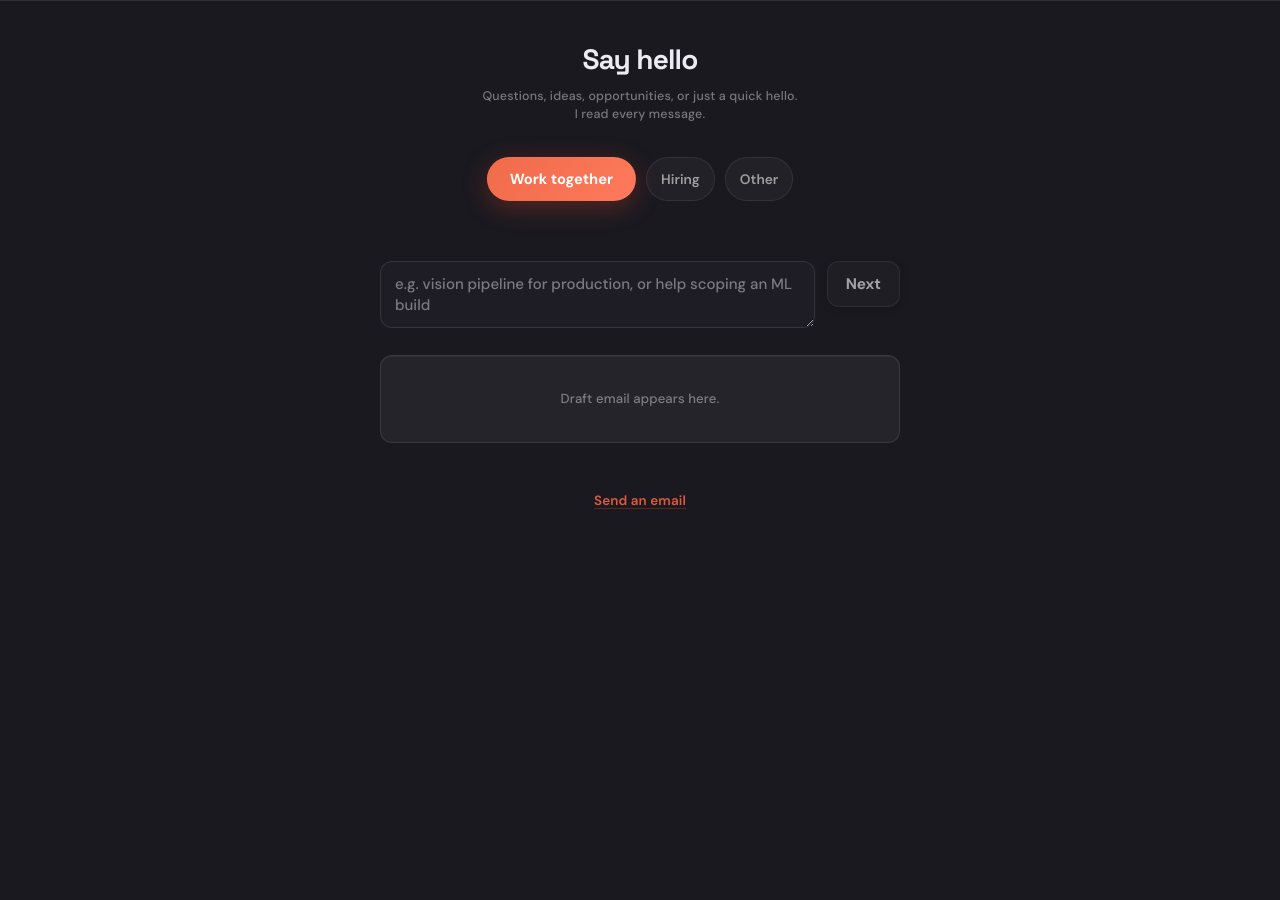
Contact › completes preview flow and validates send button by email format
Type "I’m working on a production AI workflow." into the text box titled "your message" at x=597, y=295, box [380,261,815,328]
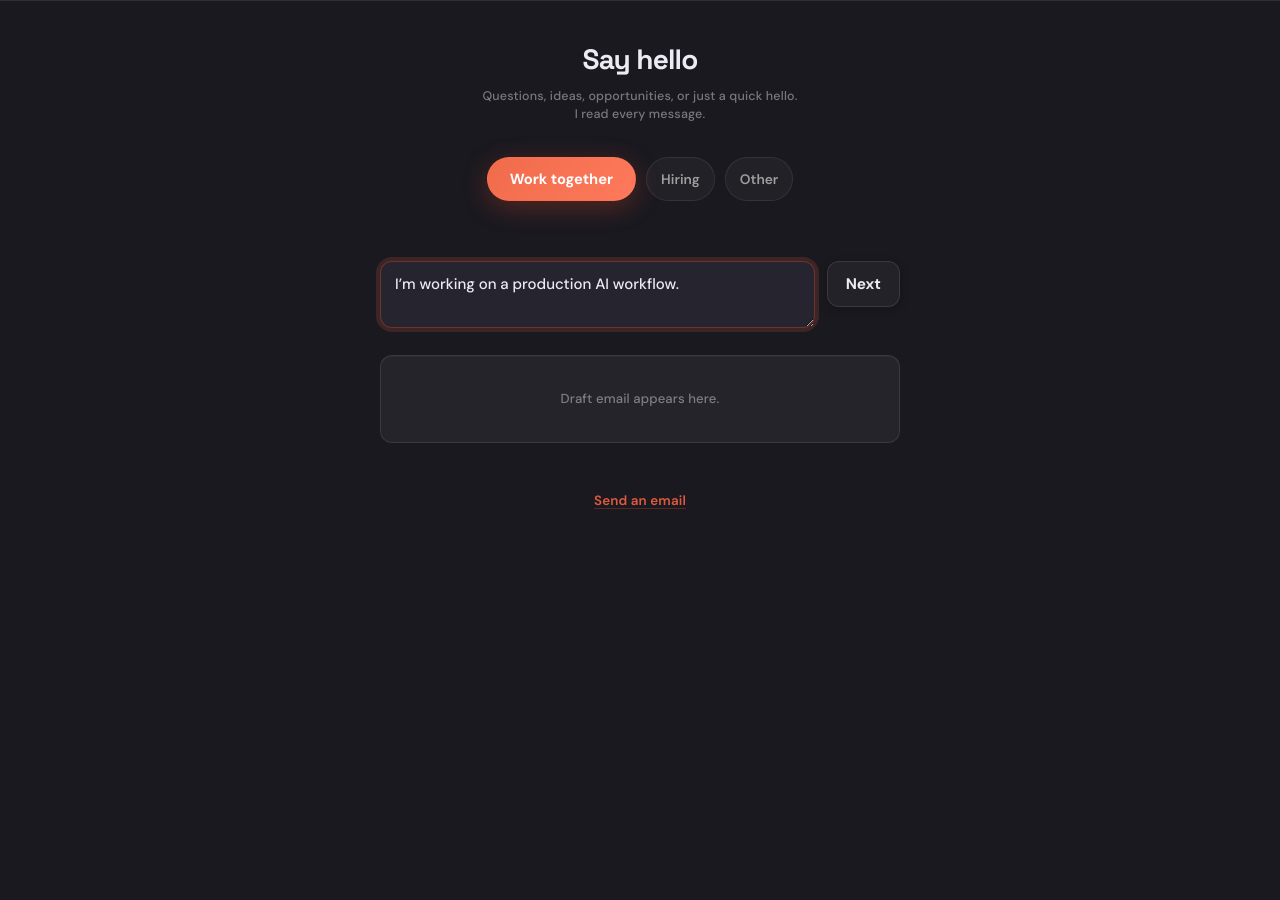
Click the button "Next" at x=863, y=284, box [827,261,900,307]
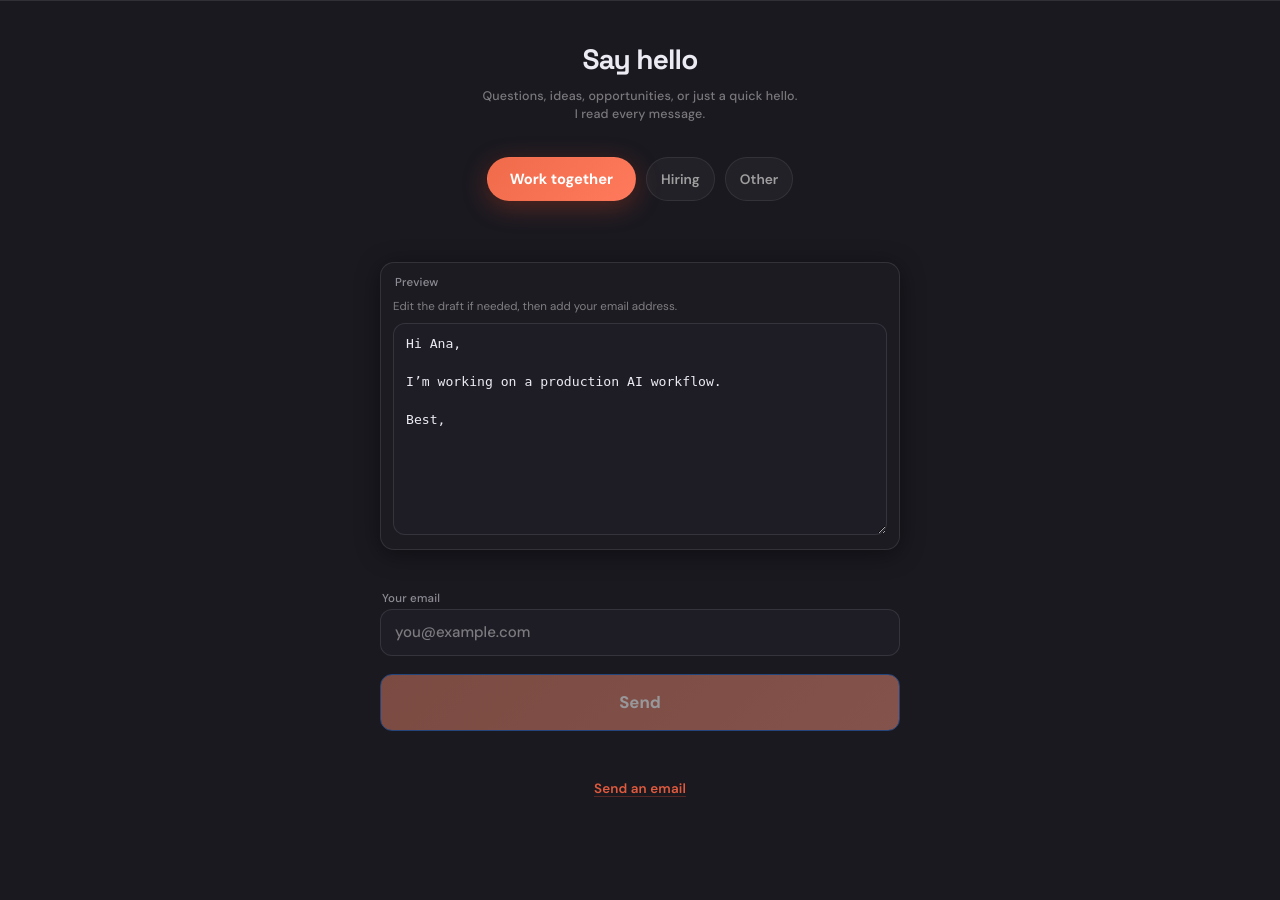
Now the text box named "editable email preview" is shown, box [393,323,887,535]
Now the button "Send" is disabled, box [380,674,900,731]
Type "invalid" into the field with placeholder "you@example.com" at x=640, y=632, box [380,609,900,656]
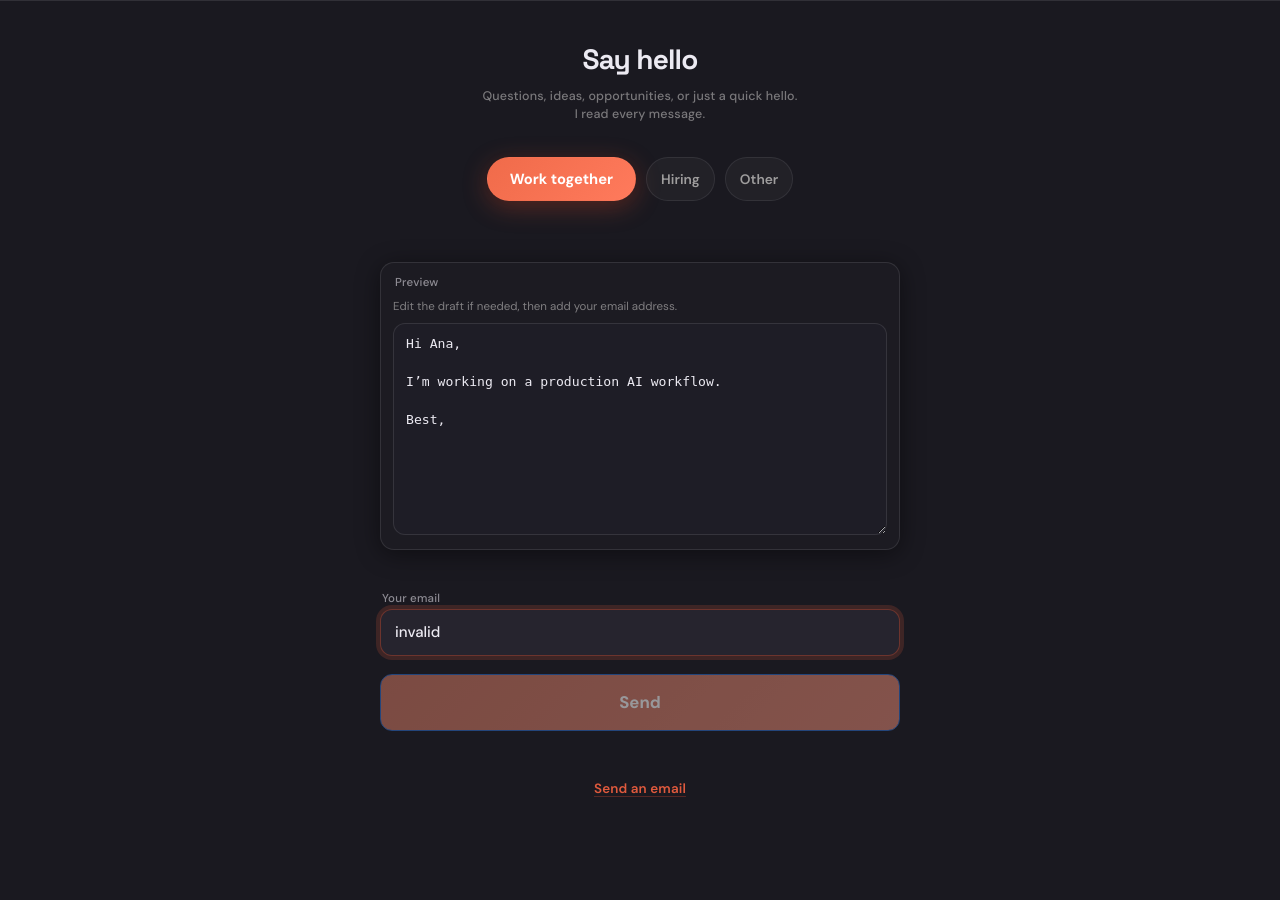
Now the button "Send" is disabled, box [380,674,900,731]
Replace the text in the field with placeholder "you@example.com" with "ana.tester@example.com" at x=640, y=632, box [380,609,900,656]
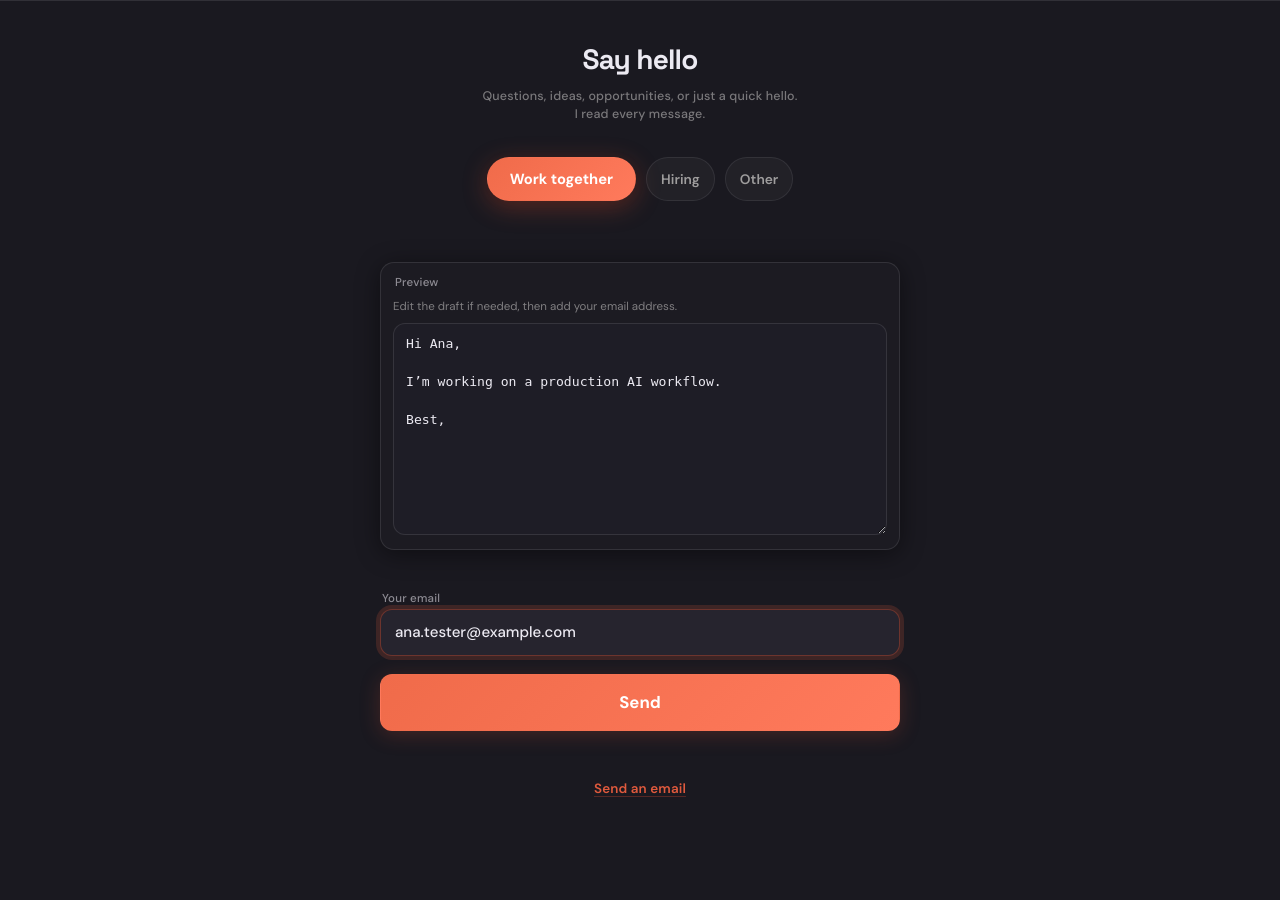
Now the button "Send" is enabled, box [380,674,900,731]
